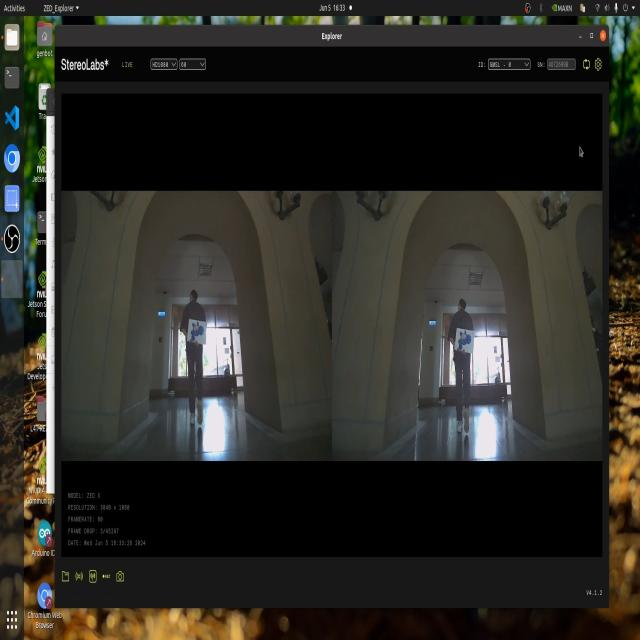blue: (189, 317, 205, 347), (456, 330, 472, 350)
